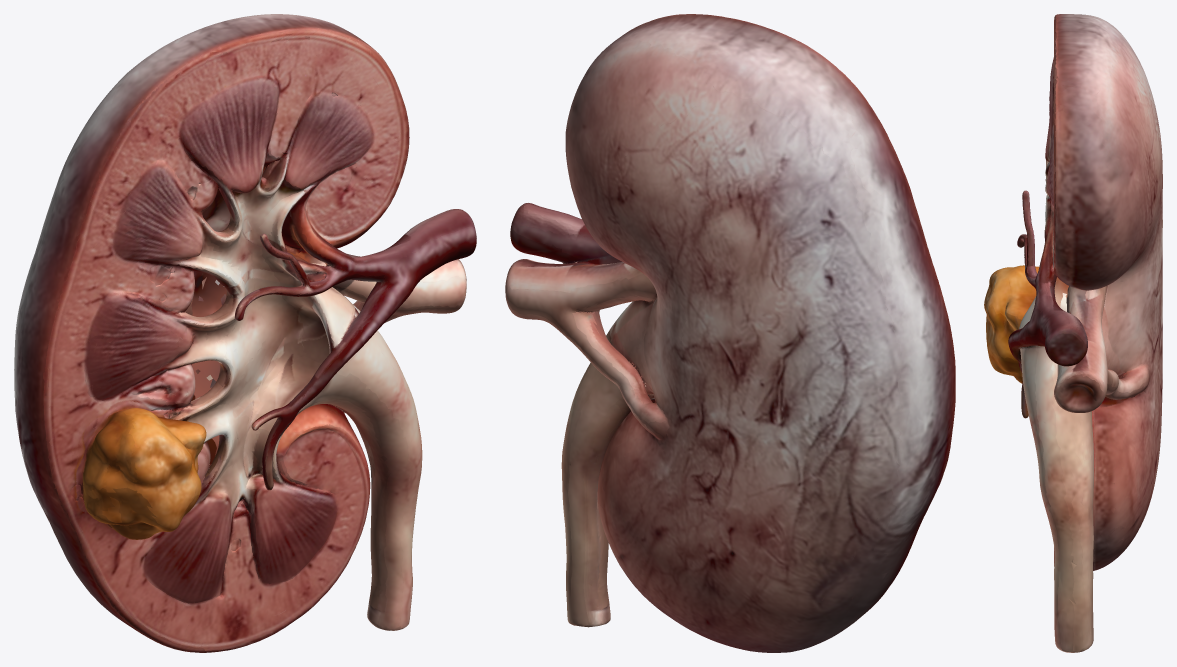
The model's file is 04-cutaway.glb.
The picture shows the model from 3 angles, left to right: view 1: azimuth 30°, elevation 25°; view 2: azimuth 150°, elevation 25°; view 3: azimuth 270°, elevation 25°; orthographic projection. The views are drawn at different scales.
Visible parts, largest first — view 1: geometry_0; view 2: geometry_0; view 3: geometry_0.
Part boxes in pixels (bbox=[...]): geometry_0: bbox=[14, 14, 476, 652]; geometry_0: bbox=[505, 14, 955, 652]; geometry_0: bbox=[984, 14, 1162, 652].
Size of the model in its own units: 0.7246 by 1 by 0.295.
Materials: 1 (1 with a texture image).
